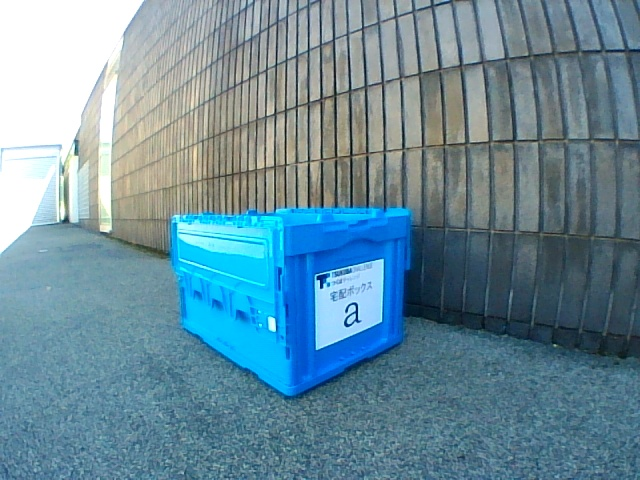blue_box: (171, 207, 410, 397)
tag_a: (340, 293, 364, 328)
